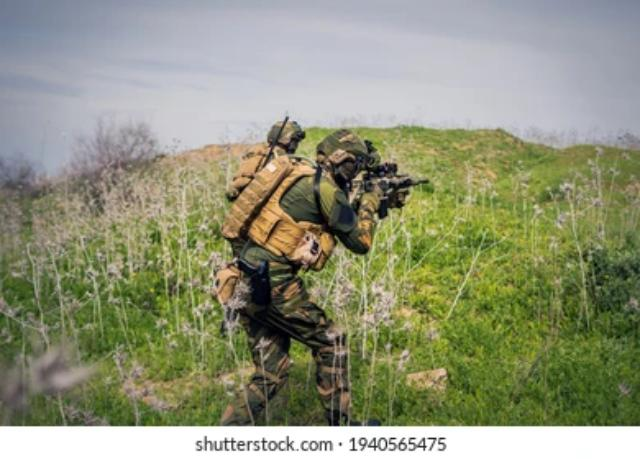other: (220, 130, 386, 421), (240, 115, 306, 174)
